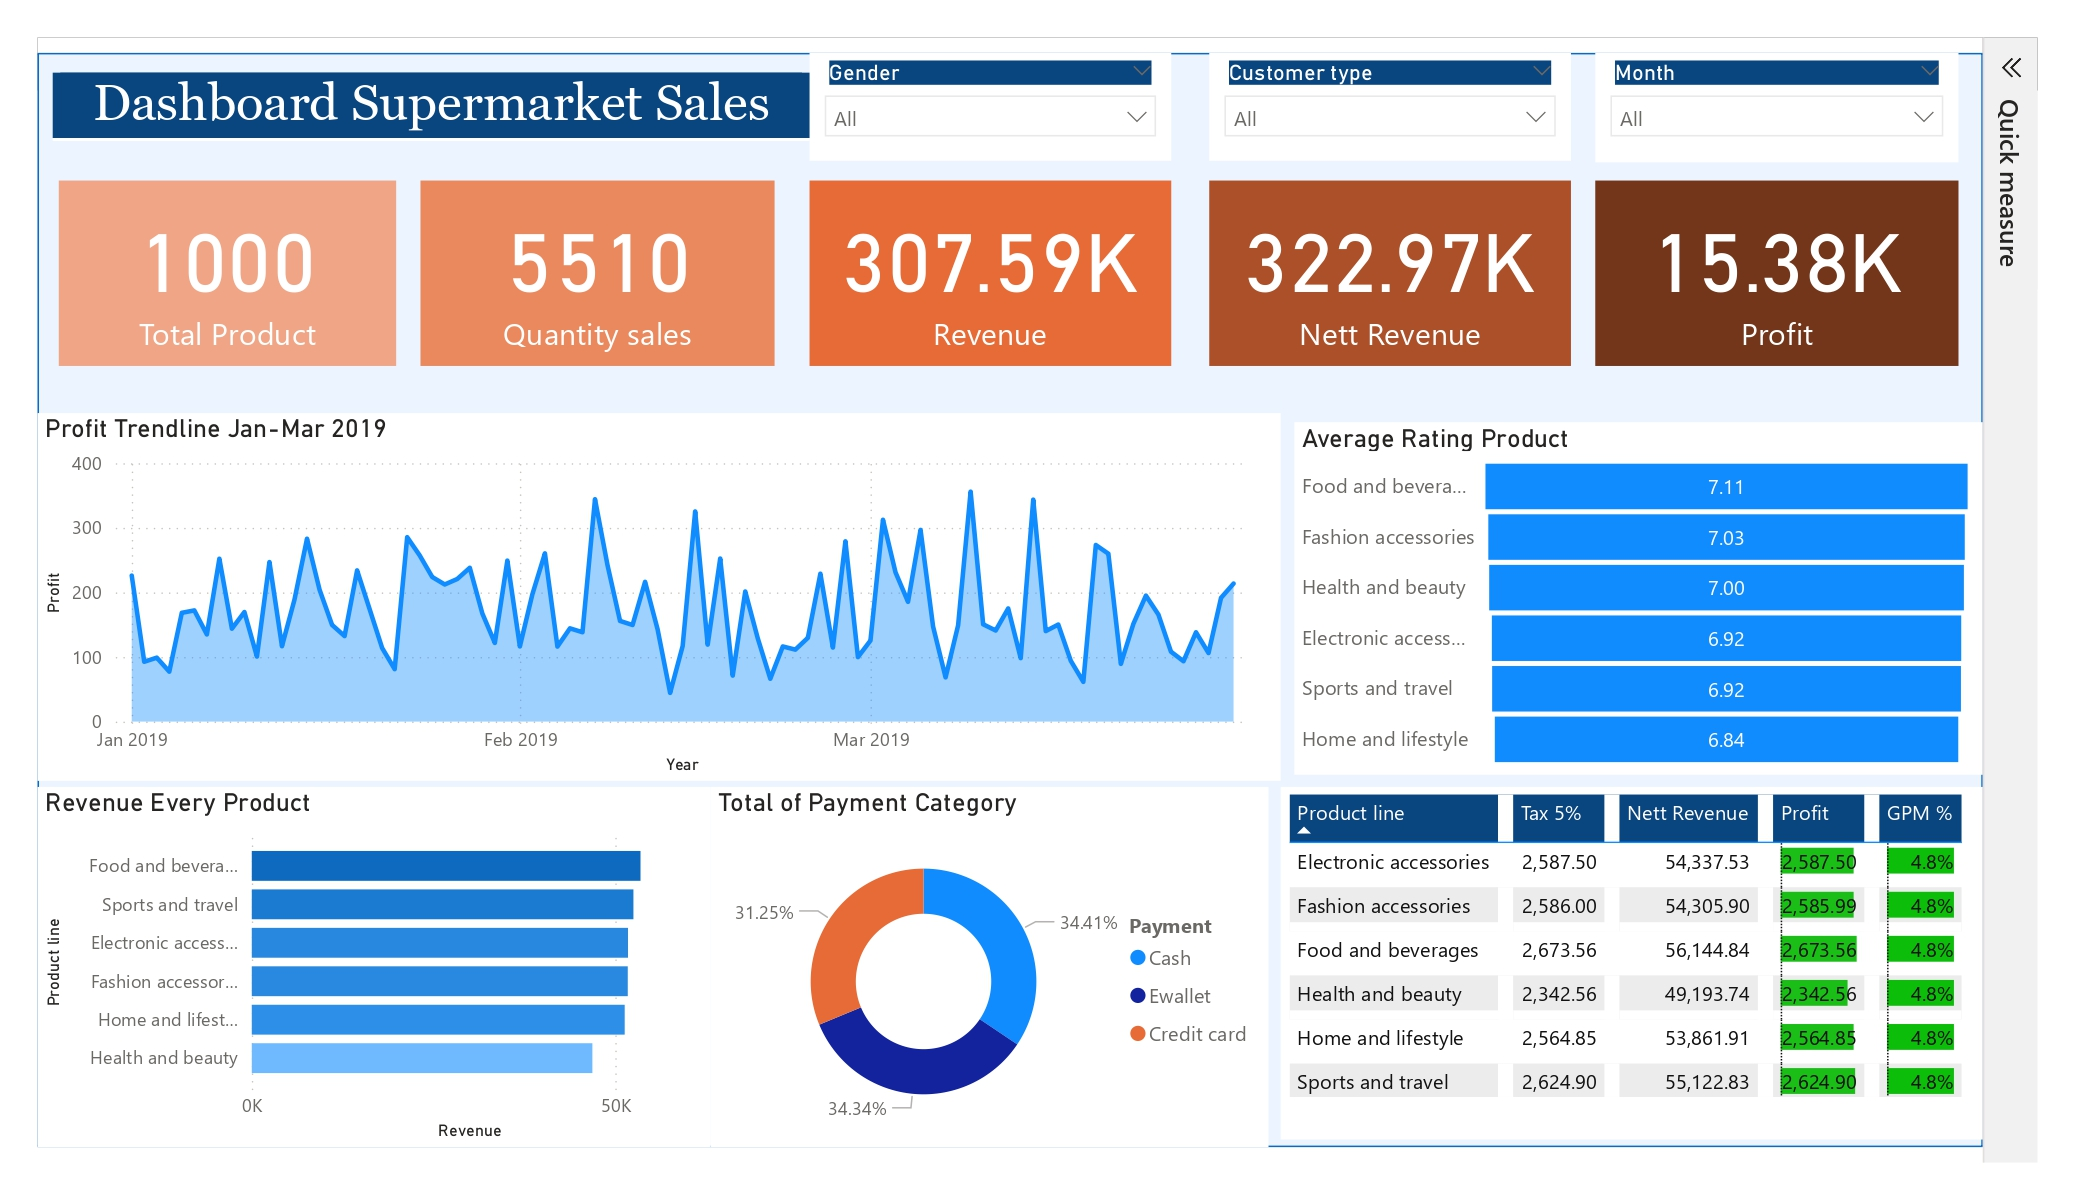

What the dashboard file says about the page in this screenshot:
{"tool":"powerbi","page":{"name":"Page 1","canvas":[1280,720],"ordinal":0},"visuals":[{"type":"shape","box":[0,0,1280,720],"z":0},{"type":"tableEx","fields":{"Values":["supermarket_sales.Product line","supermarket_sales.Tax 5%","supermarket_sales.Nett Revenue","supermarket_sales.Profit","supermarket_sales.GPM %"]},"box":[818.2,482.7,461.8,232.6],"z":0,"group":"g1"},{"type":"group","id":"g1","title":"Group 1","box":[0,0,1280,720],"z":1},{"type":"donutChart","title":"Total of Payment Category","fields":{"Y":["Sum(supermarket_sales.Quantity)"],"Category":["supermarket_sales.Payment"]},"box":[443.3,482.7,366.9,237.3],"z":1000,"group":"g1"},{"type":"barChart","title":"Revenue Every Product","fields":{"Category":["supermarket_sales.Product line"],"Y":["supermarket_sales.Revenue"]},"box":[0,482.7,443.3,237.3],"z":2000,"group":"g1"},{"type":"areaChart","title":"Profit Trendline Jan-Mar 2019","fields":{"Y":["supermarket_sales.Profit"],"Category":["supermarket_sales.Date.Variation.Date Hierarchy.Year","supermarket_sales.Date.Variation.Date Hierarchy.Quarter","supermarket_sales.Date.Variation.Date Hierarchy.Month","supermarket_sales.Date.Variation.Date Hierarchy.Day"]},"box":[0,237.3,818.2,241.9],"z":3000,"group":"g1"},{"type":"funnel","title":"Average Rating Product","fields":{"Y":["Avg(supermarket_sales.Rating)"],"Category":["supermarket_sales.Product line"]},"box":[827.5,243.1,452.5,231.4],"z":4000,"group":"g1"},{"type":"card","title":"asc","fields":{"Values":["CountNonNull(supermarket_sales.Product line)"]},"box":[13.9,84.2,222.2,121.6],"z":5000,"group":"g1"},{"type":"card","fields":{"Values":["Sum(supermarket_sales.Quantity)"]},"box":[252.3,84.2,232.6,121.6],"z":6000,"group":"g1"},{"type":"card","fields":{"Values":["supermarket_sales.Revenue"]},"box":[508.1,84.2,238.4,121.6],"z":7000,"group":"g1"},{"type":"card","fields":{"Values":["supermarket_sales.Nett Revenue"]},"box":[770.8,84.2,238.4,121.6],"z":8000,"group":"g1"},{"type":"card","fields":{"Values":["supermarket_sales.Profit"]},"box":[1025.4,84.2,238.4,121.6],"z":9000,"group":"g1"},{"type":"slicer","fields":{"Values":["supermarket_sales.Date.Variation.Date Hierarchy.Month"]},"box":[1025.4,0,238.4,72.5],"z":10000,"group":"g1"},{"type":"slicer","fields":{"Values":["supermarket_sales.Customer type"]},"box":[770.8,0,238.4,71.3],"z":11000,"group":"g1"},{"type":"slicer","fields":{"Values":["supermarket_sales.Gender"]},"box":[508.1,0,238.4,71.3],"z":12000,"group":"g1"},{"type":"textbox","title":"Dashboard Supermarket Sales","box":[10,13.3,497.8,44.4],"z":13000,"group":"g1"}]}

Visuals, with their boxes on the page's 1280x720 design canvas (x1, y1, x2, y2). These are canvas units, not pixel positions in the 2075x1200 screenshot, which may show the page scaled, cropped or inside an application window:
shape: detection(0, 0, 1280, 720)
tableEx - supermarket_sales.Product line x supermarket_sales.Tax 5%: detection(818, 483, 1280, 715)
"Group 1" group: detection(0, 0, 1280, 720)
"Total of Payment Category" donutChart: detection(443, 483, 810, 720)
"Revenue Every Product" barChart: detection(0, 483, 443, 720)
"Profit Trendline Jan-Mar 2019" areaChart: detection(0, 237, 818, 479)
"Average Rating Product" funnel: detection(828, 243, 1280, 474)
"asc" card: detection(14, 84, 236, 206)
card - Sum(supermarket_sales.Quantity): detection(252, 84, 485, 206)
card - supermarket_sales.Revenue: detection(508, 84, 746, 206)
card - supermarket_sales.Nett Revenue: detection(771, 84, 1009, 206)
card - supermarket_sales.Profit: detection(1025, 84, 1264, 206)
slicer - supermarket_sales.Date.Variation.Date Hierarchy.Month: detection(1025, 0, 1264, 72)
slicer - supermarket_sales.Customer type: detection(771, 0, 1009, 71)
slicer - supermarket_sales.Gender: detection(508, 0, 746, 71)
"Dashboard Supermarket Sales" textbox: detection(10, 13, 508, 58)
